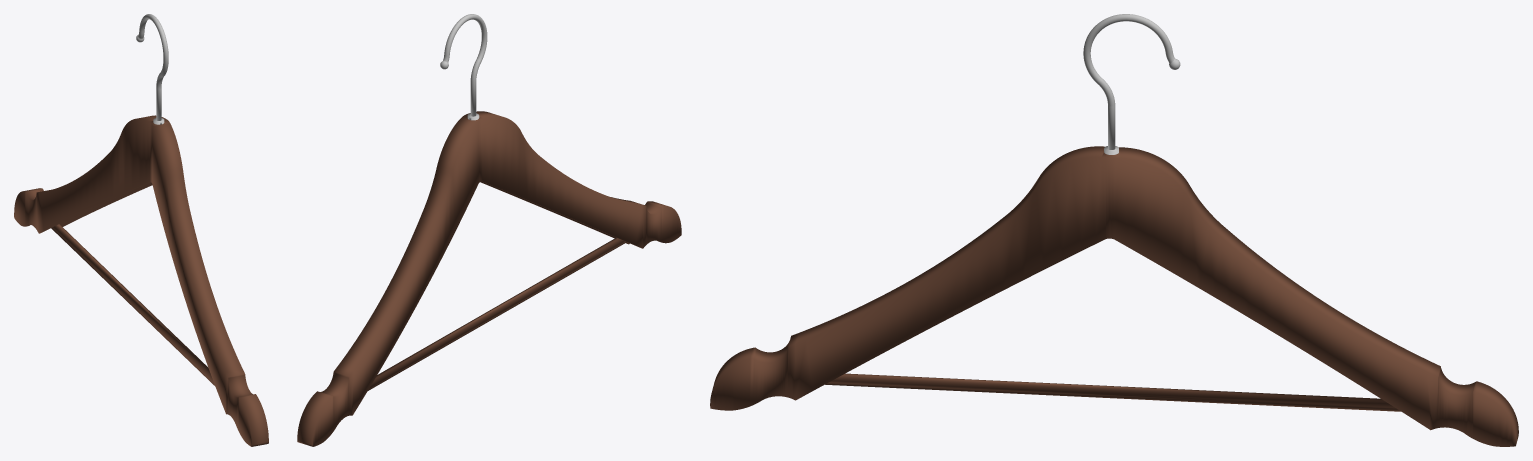
The model's file is hanger.fbx.
3 renders of one model, left to right at view 1: azimuth 30°, elevation 25°; view 2: azimuth 150°, elevation 25°; view 3: azimuth 270°, elevation 25°, orthographic. The views are drawn at different scales.
Parts seen in each view (by area): view 1: hanger; view 2: hanger; view 3: hanger.
Part boxes in pixels (x1=…): hanger: x1=14, y1=14, x2=268, y2=446; hanger: x1=297, y1=14, x2=681, y2=446; hanger: x1=710, y1=14, x2=1518, y2=446.
Bounding box in the file's own units: 354 × 1434 × 2497.
